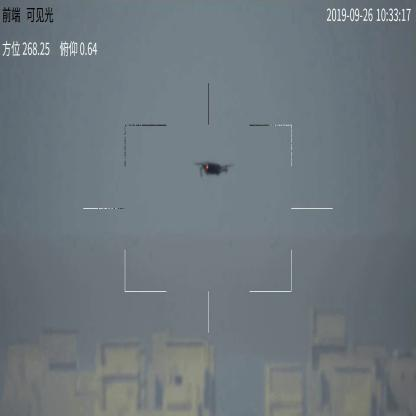uav: (194, 156, 232, 178)
